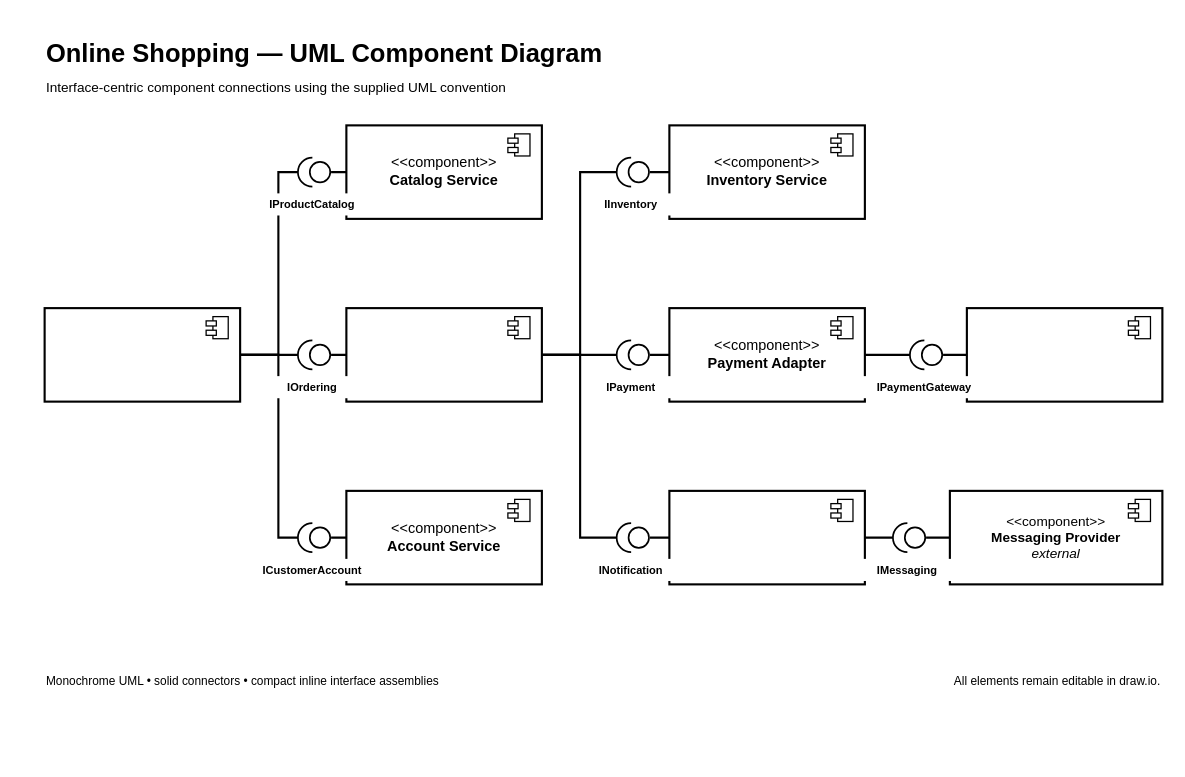
The diagram is 1185 pixels wide and 777 high, and some of its shapes have lost their labels. Each missing label, with the box of its shape:
<<component>> Notification Service: (668, 489, 866, 585)
<<component>> Order Service: (345, 307, 543, 402)
<<component>> Payment Gateway external: (965, 307, 1163, 402)
<<component>> Web Store UI: (43, 307, 241, 402)
